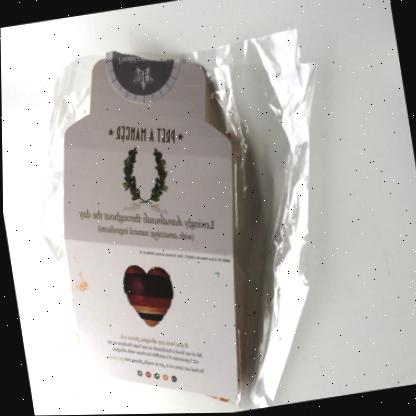Paper: (61, 59, 236, 400)
Plastic: (38, 29, 317, 411)
